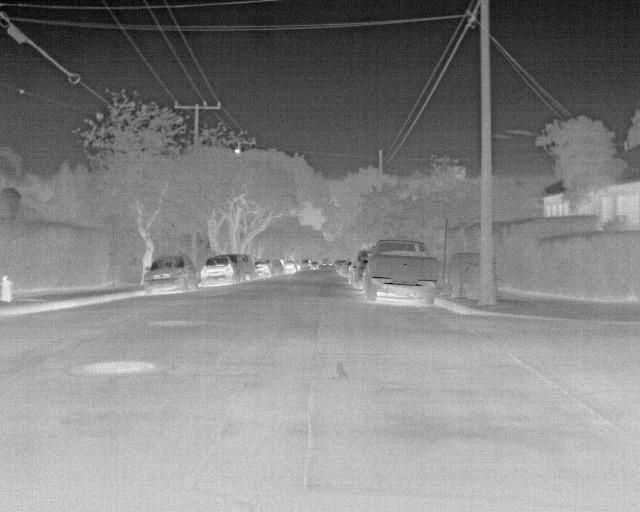car: (363, 239, 442, 309), (140, 253, 196, 291), (200, 255, 244, 286), (348, 248, 376, 286), (251, 259, 274, 279), (281, 260, 299, 275)
